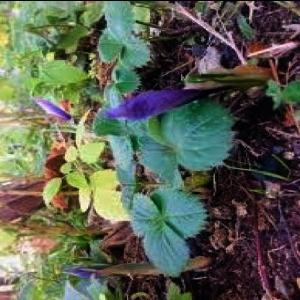Saffron: (103, 79, 214, 118), (30, 94, 74, 123)
